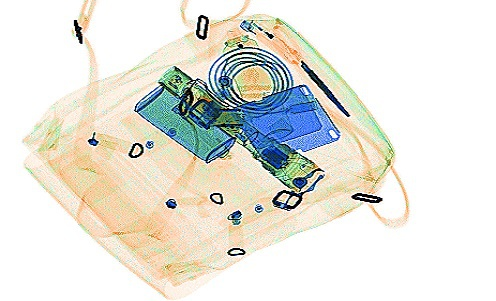lighter: (233, 14, 288, 54)
pressure: (219, 24, 291, 142)
scissors: (266, 22, 351, 117)
zippooil: (133, 81, 234, 162)
